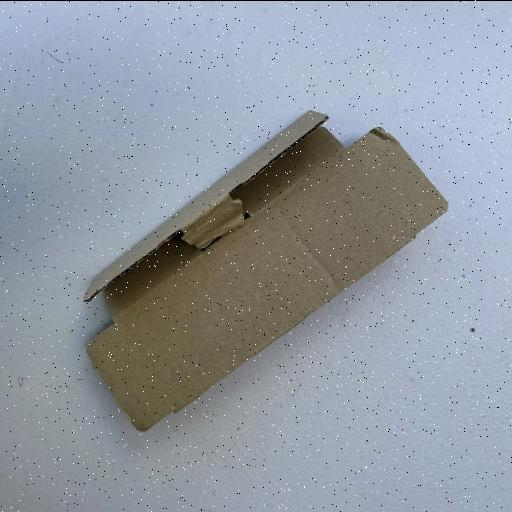Cardboard: (82, 106, 450, 432)
